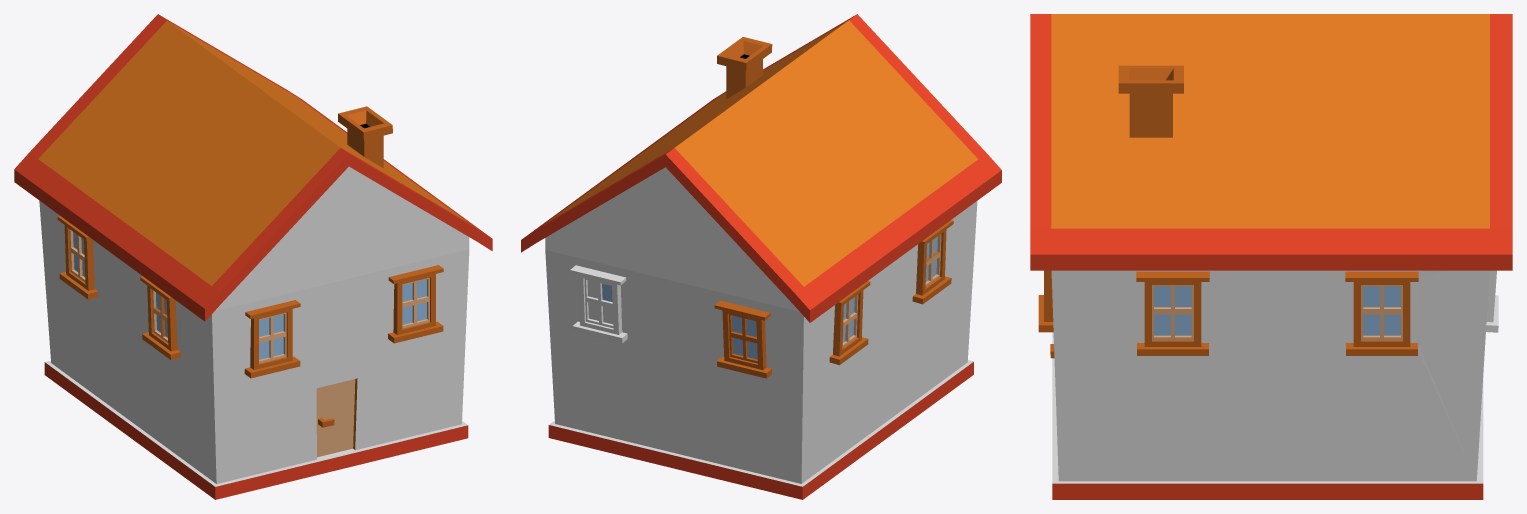
File: House.gltf
3 views of the same model, side by side, from view 1: azimuth 30°, elevation 25°; view 2: azimuth 150°, elevation 25°; view 3: azimuth 270°, elevation 25° (orthographic). The views are drawn at different scales.
Parts seen in each view (by area): view 1: House2; view 2: House2; view 3: House2.
Part boxes in pixels (<box>): House2: <box>14,14,492,499</box>; House2: <box>521,14,1001,499</box>; House2: <box>1030,14,1512,499</box>.
Size of the model in its own units: 1.25 by 1.34 by 1.44.
